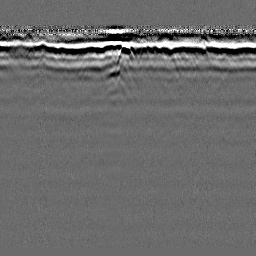cavity: (116, 40, 135, 66)
